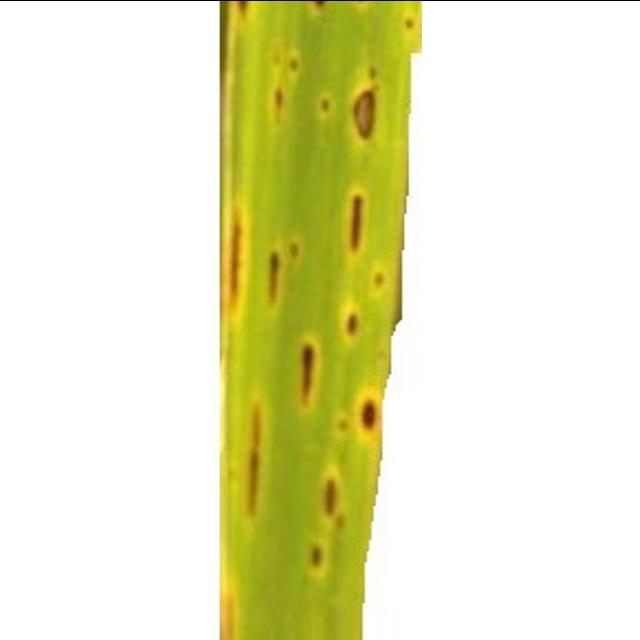Brown spot: (198, 0, 443, 640)
